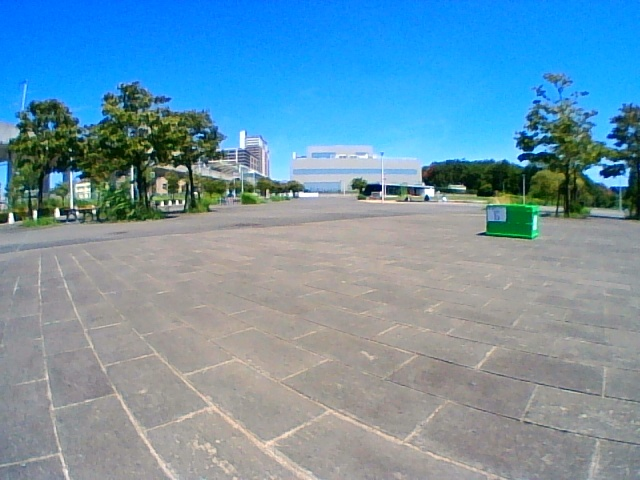green_box: (487, 204, 538, 238)
tag: (487, 207, 504, 221)
